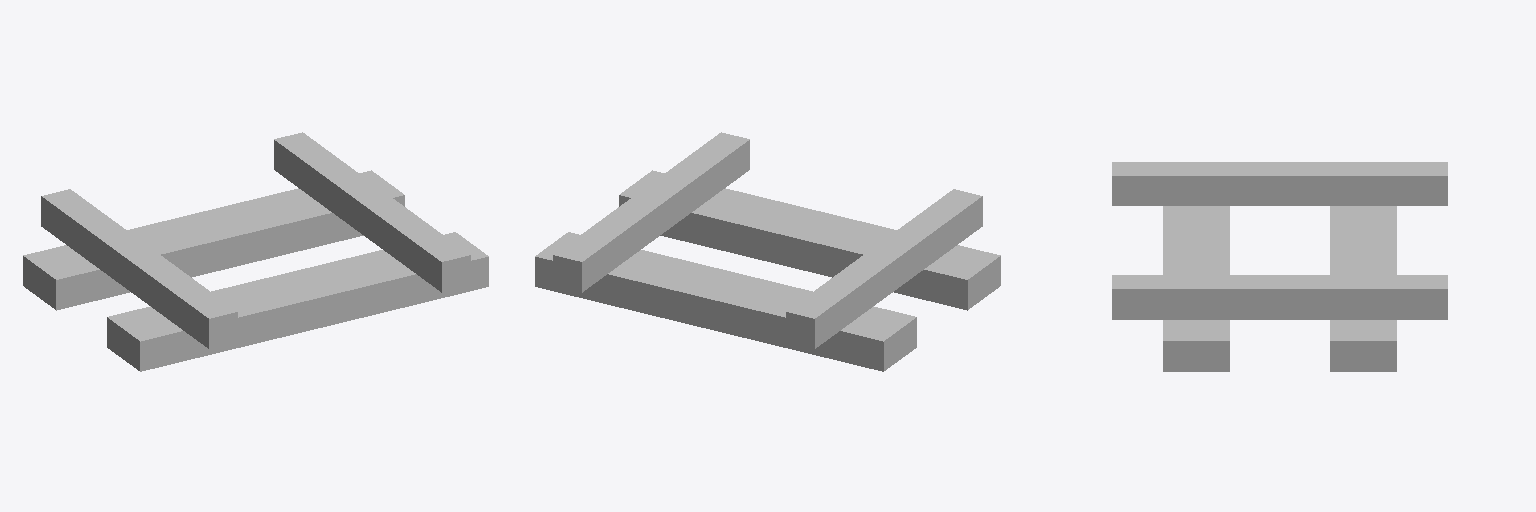
The model's file is rail.obj.
The picture shows the model from 3 angles: view 1: azimuth 30°, elevation 25°; view 2: azimuth 150°, elevation 25°; view 3: azimuth 270°, elevation 25°; orthographic projection.
Visible parts, largest first — view 1: Rail; view 2: Rail; view 3: Rail.
Boxes of the visible parts, <box> form: Rail: <box>23,132,488,371</box>; Rail: <box>535,132,1000,371</box>; Rail: <box>1112,162,1447,371</box>.
Size of the model in its own units: 1.2 by 0.2 by 1.